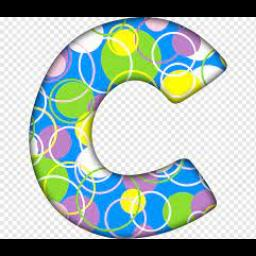c: (24, 18, 256, 236)
